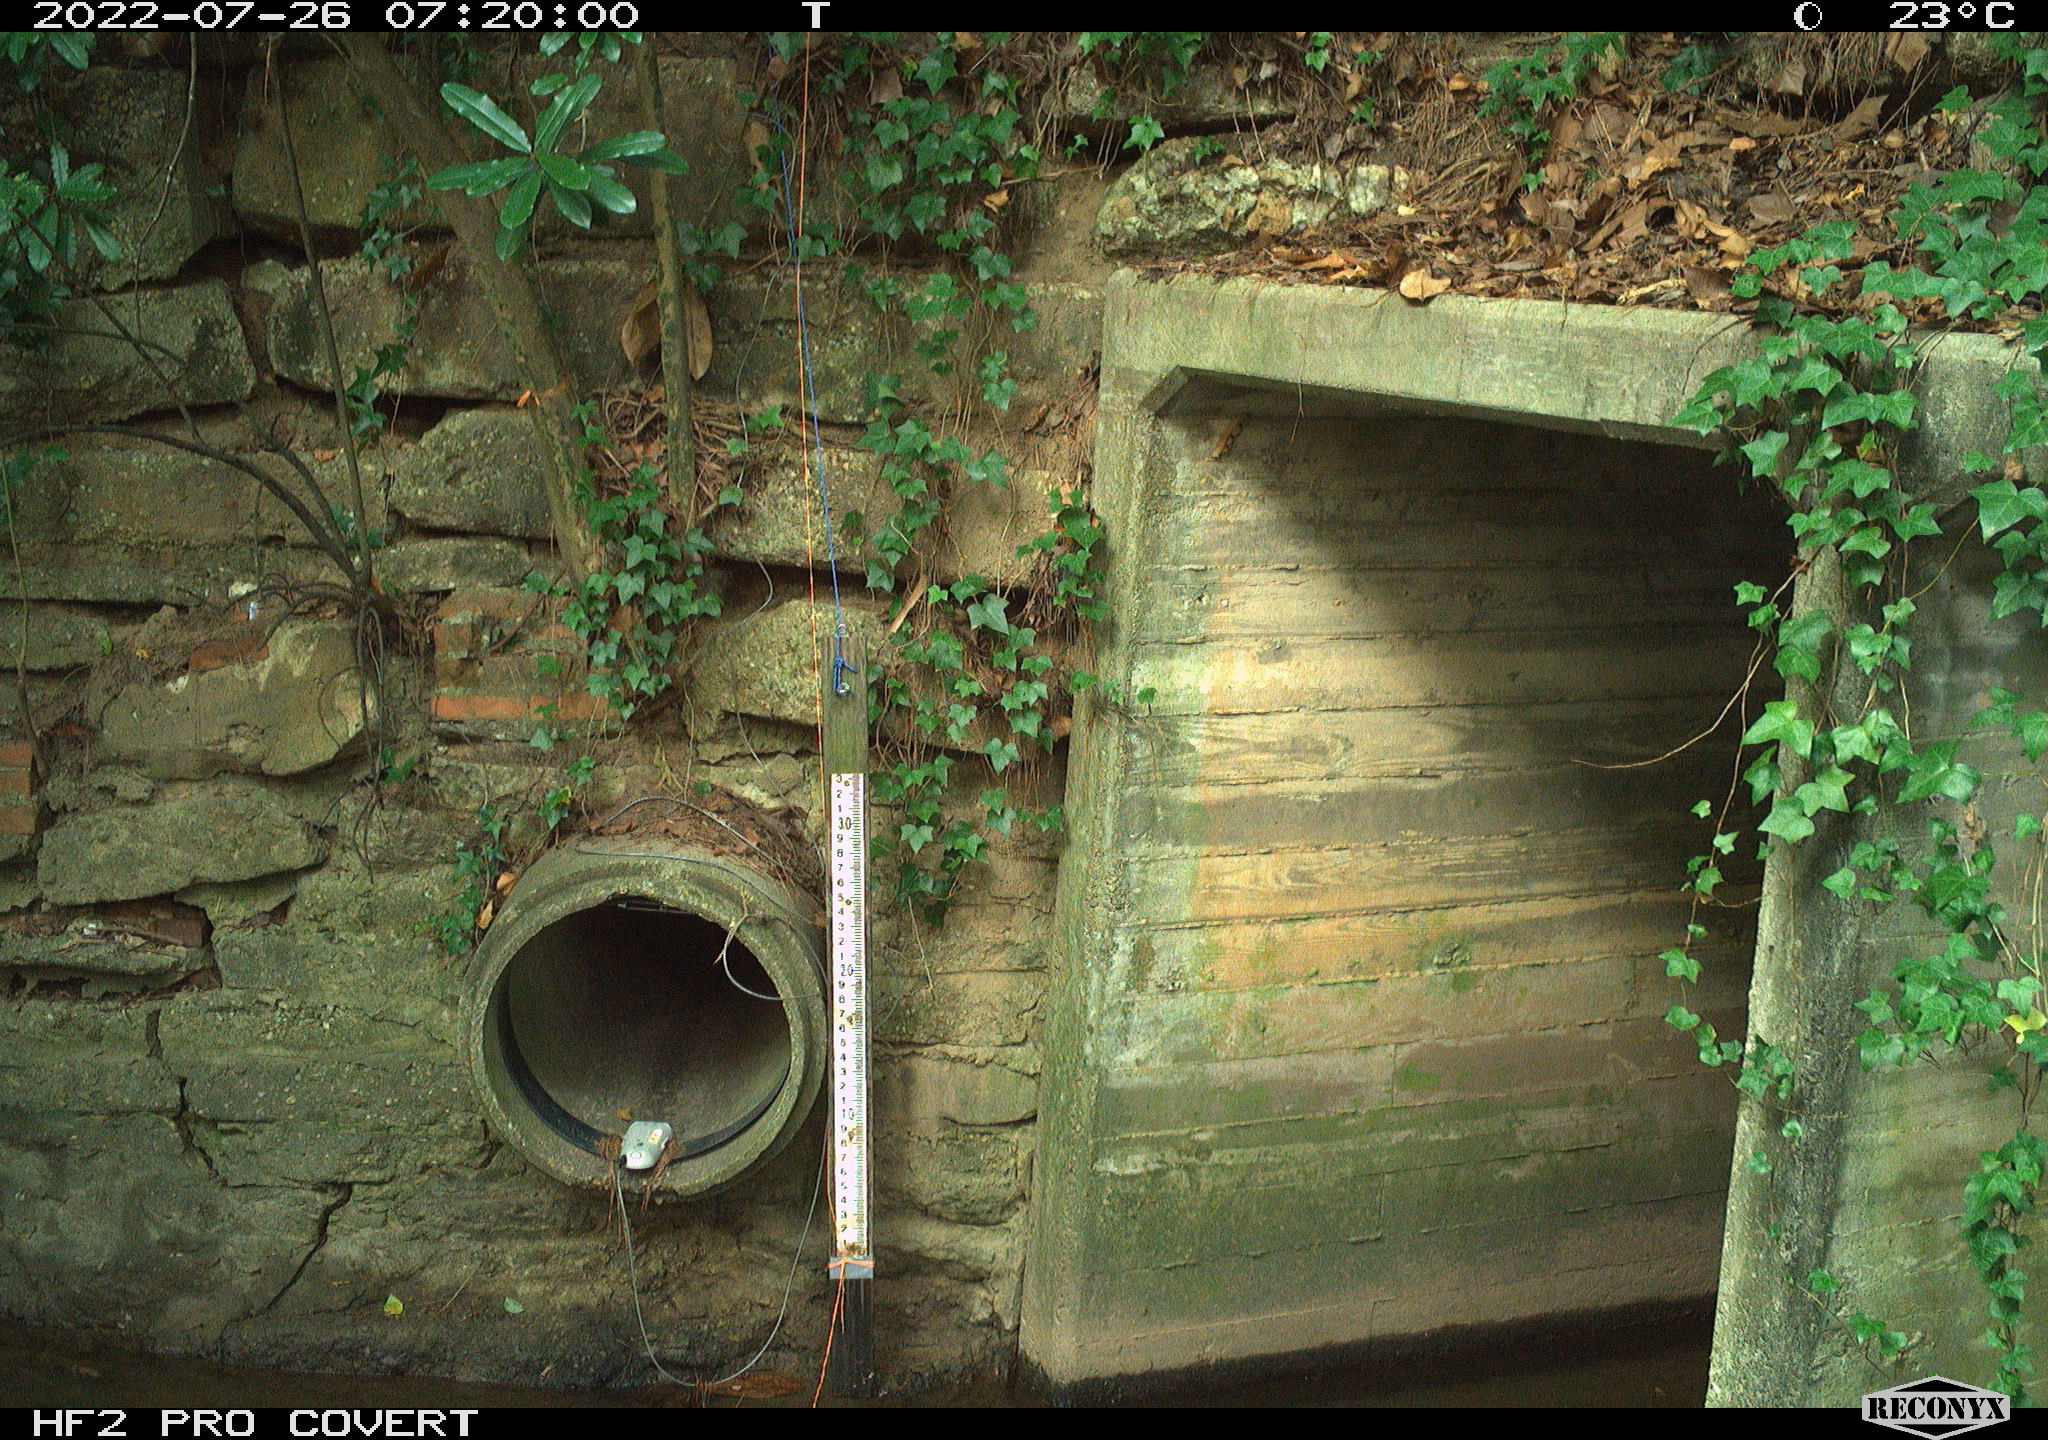Empty Outlet: (485, 905, 792, 1188)
